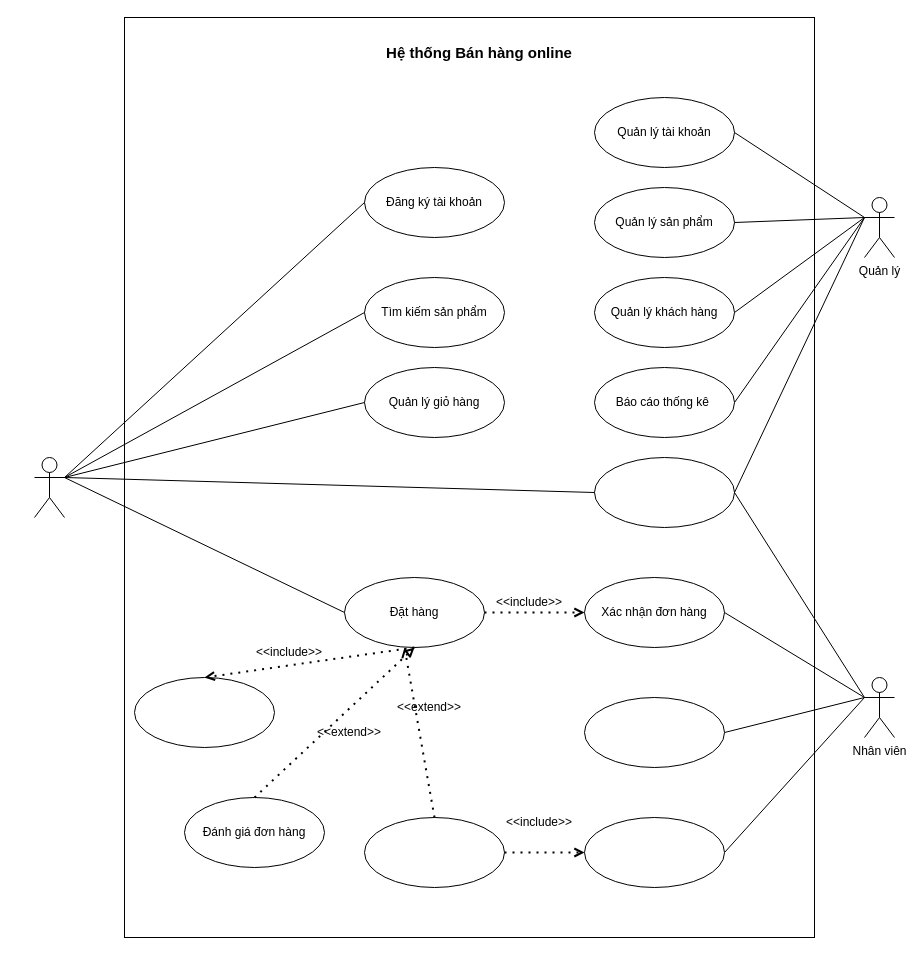
The diagram is 924 pixels wide and 955 high, and some of its shapes have lost their labels. The centre of each missing label's shape, as x and y in pixels:
Cập nhật trạng thái đơn hàng: pixel 654 732
Khách hàng: pixel 49 487
Thanh toán: pixel 204 712
Xử lý đơn hoàn trả: pixel 654 852
Yêu cầu hoàn trả đơn hàng: pixel 434 852
Đăng nhập: pixel 664 492
